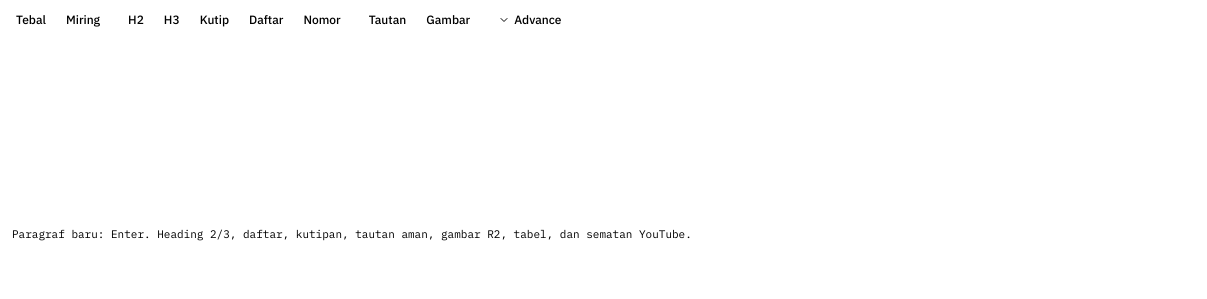
it: RichTextEditor › membuka format lanjutan berisi tombol enterprise: tabel, perataan, stabilo, garis
Click the button "Advance". click: (530, 20)
box: [490,8,570,32]
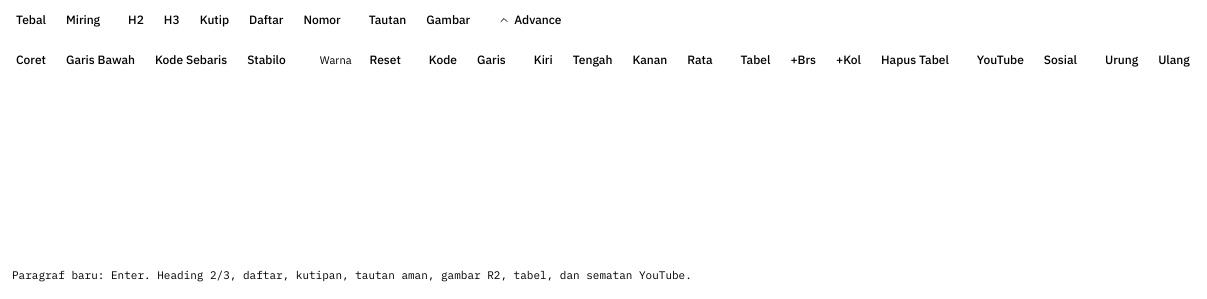
Now the button "Garis Bawah" is shown, box [58,48,143,72]
Now the button "Kode Sebaris" is shown, box [147,48,235,72]
Now the button "Stabilo" is shown, box [239,48,294,72]
